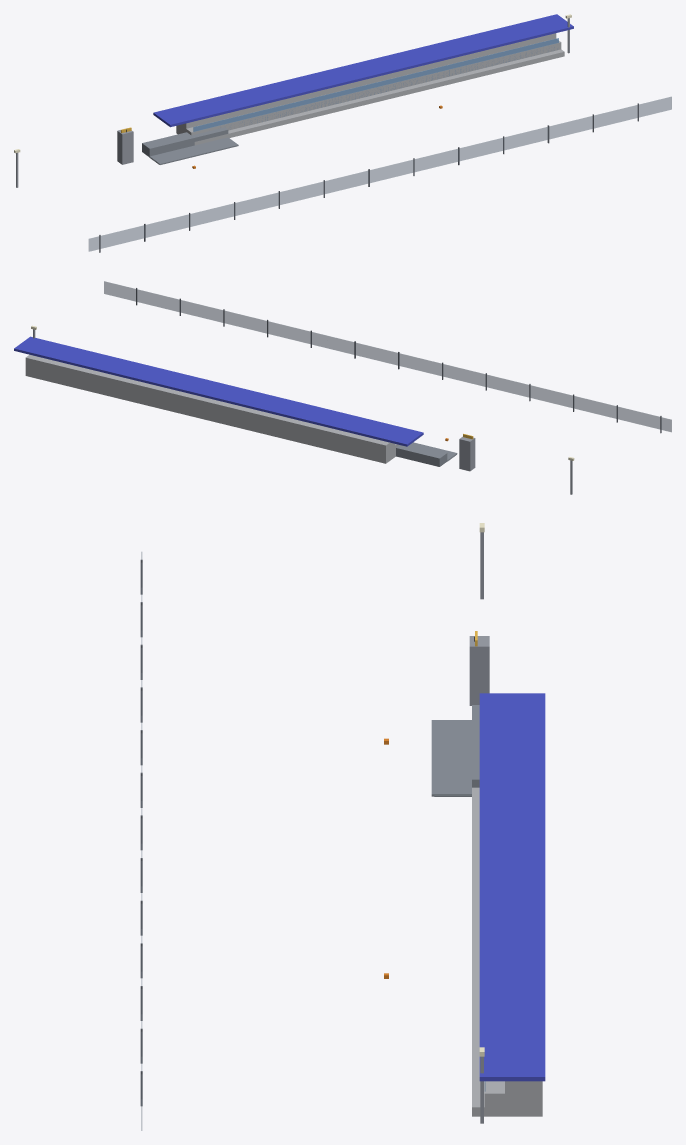
Rendered from venue_14.obj.
3 views of the same model, one above another, from view 1: azimuth 30°, elevation 25°; view 2: azimuth 150°, elevation 25°; view 3: azimuth 270°, elevation 25° (orthographic). The views are drawn at different scales.
Bounding box in the file's own units: 520 × 32 × 160.
